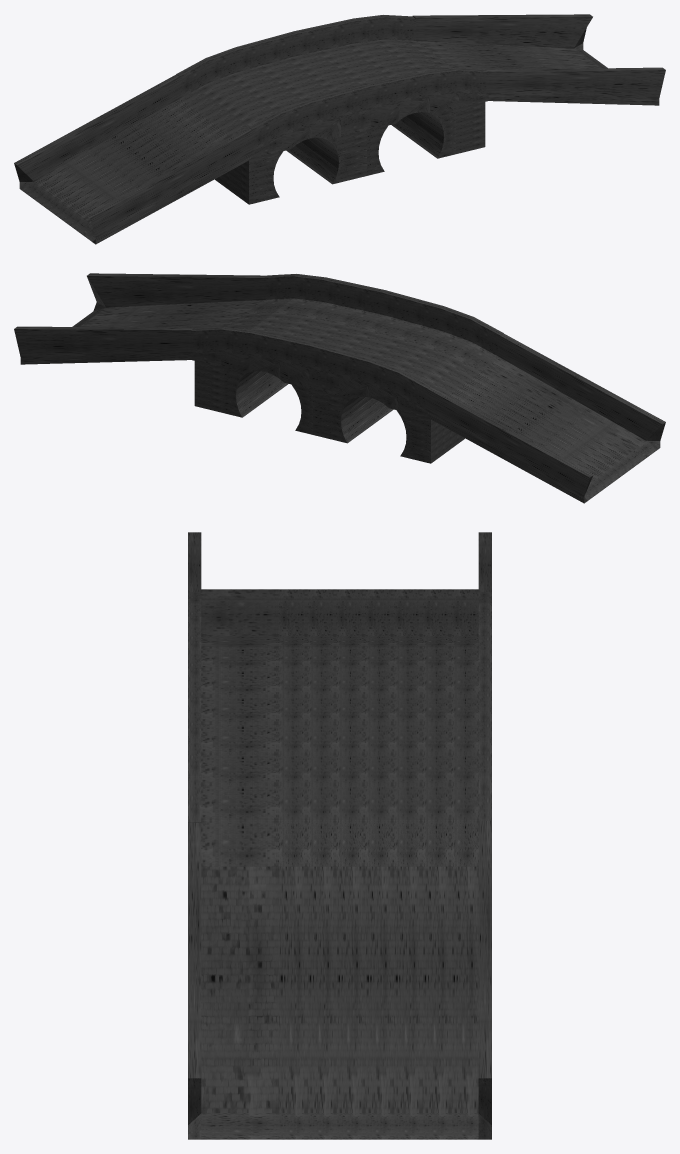
Rendered from bridge.glb.
3 renders of one model, top to bottom at view 1: azimuth 30°, elevation 25°; view 2: azimuth 150°, elevation 25°; view 3: azimuth 270°, elevation 25°, orthographic. The views are drawn at different scales.
Visible parts, largest first — view 1: Cube; view 2: Cube; view 3: Cube.
Part boxes in pixels (x1,y1,x2,y2): Cube: (14, 14, 665, 244); Cube: (14, 273, 665, 503); Cube: (188, 532, 491, 1139).
Bounding box in the file's own units: 87.56 × 13.31 × 20.03.
Materials: 1 (1 with a texture image).
